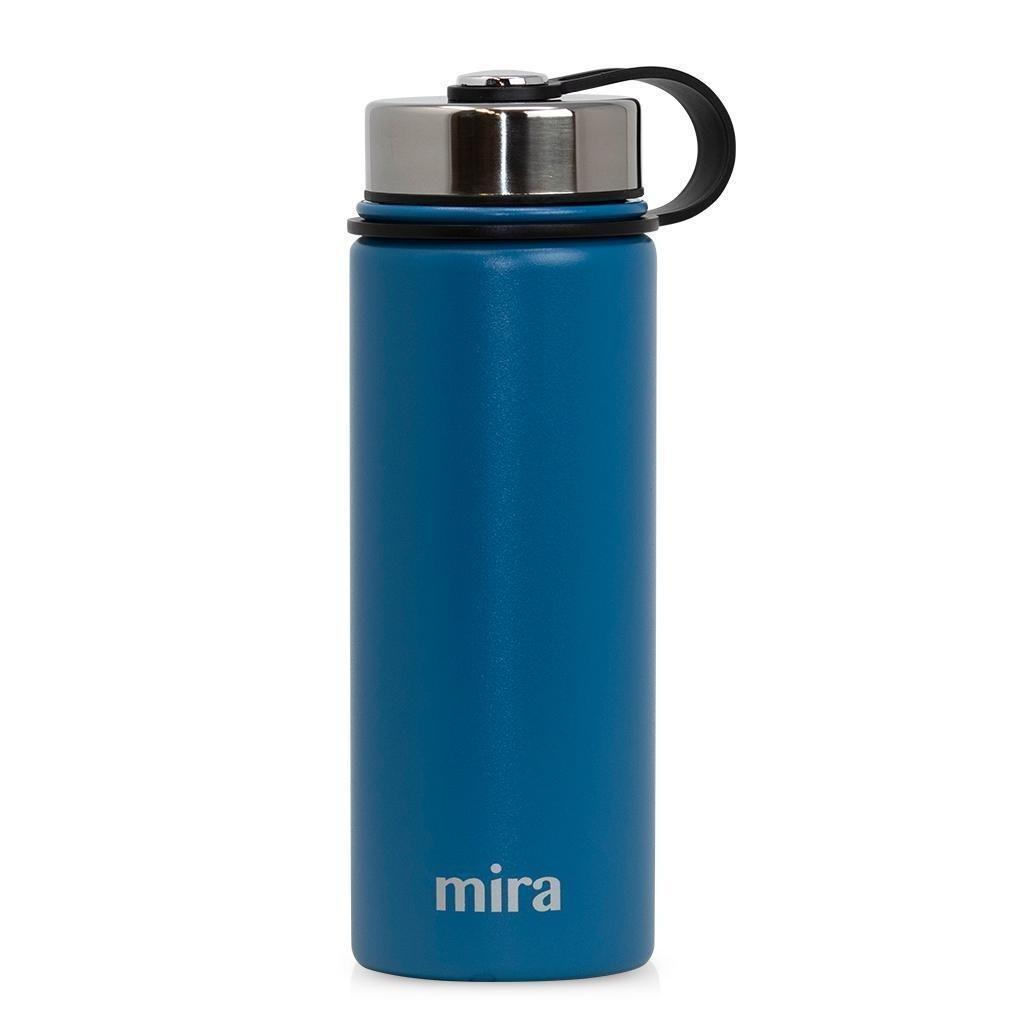gym bottle: (338, 62, 737, 990)
